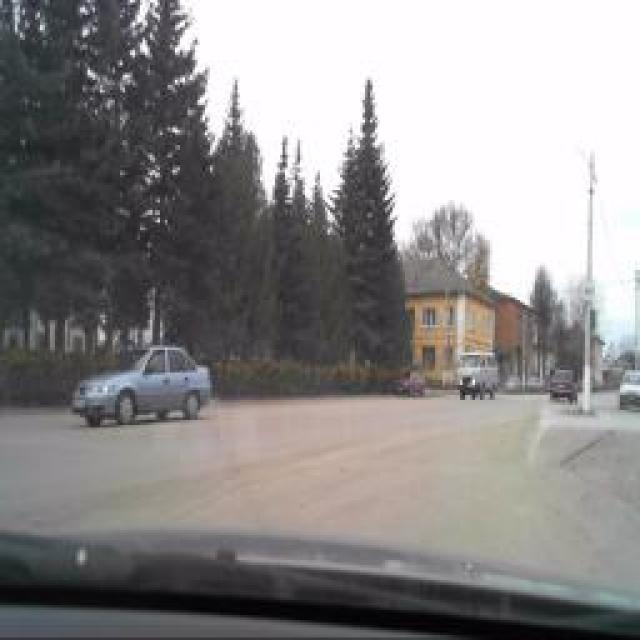sign: (582, 277, 596, 305)
